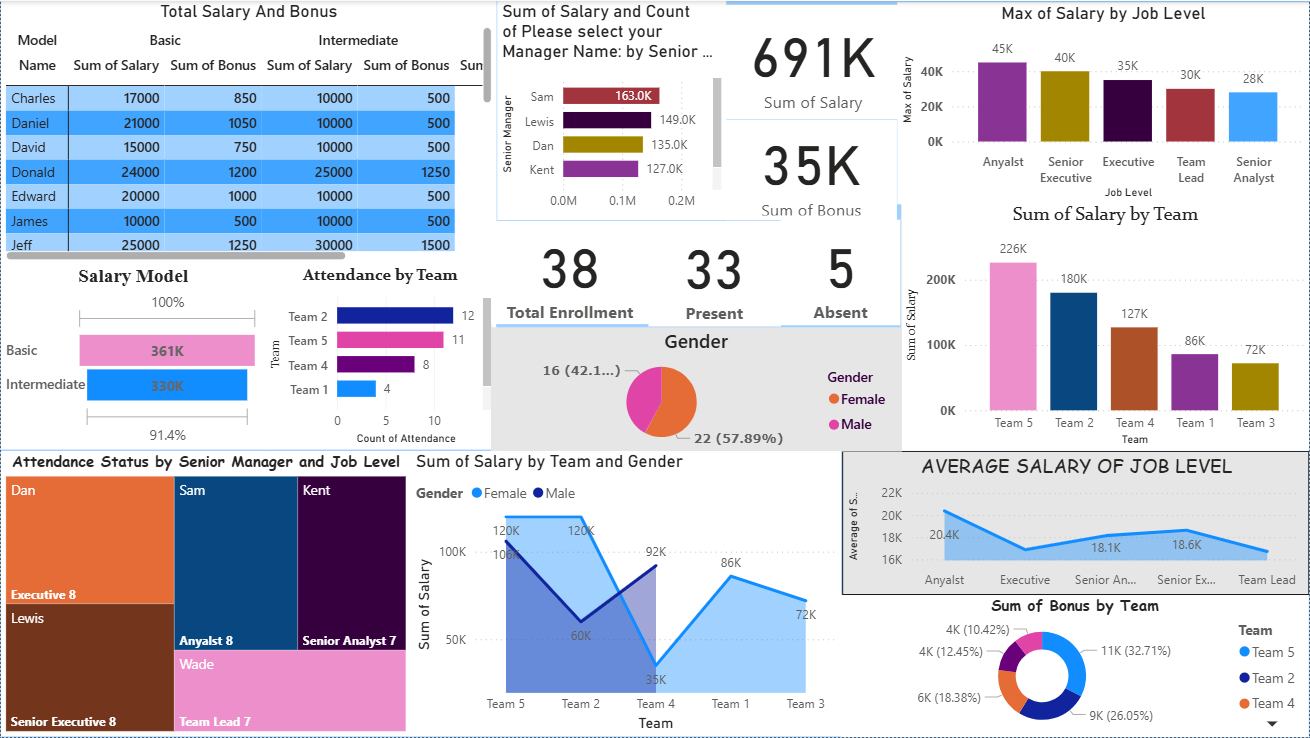

Layout of this report page (visuals, bound fields, positions):
{"tool":"powerbi","page":{"name":"Page 1","canvas":[1280,720],"ordinal":0},"visuals":[{"type":"barChart","title":"Attendance by Team","fields":{"Category":["Data.Team"],"Y":["Data.Attendance"]},"box":[258.5,258.5,226.5,180.9],"z":0},{"type":"treemap","title":"Attendance Status by Senior Manager and Job Level","fields":{"Group":["Data.Senior Manager"],"Details":["Data.Job Level"],"Values":["Data.Attendance Status"]},"box":[0,440.6,401.2,279.4],"z":1000},{"type":"card","fields":{"Values":["Data.Attendance Status"]},"box":[478.8,215.4,155.1,100.9],"z":2000},{"type":"card","fields":{"Values":["Data.Attendance Status"]},"box":[633.8,215.4,129.2,103.4],"z":3000},{"type":"card","fields":{"Values":["Data.Attendance Status"]},"box":[763.1,214.2,116.9,103.4],"z":4000},{"type":"donutChart","fields":{"Category":["Data.Team"],"Y":["Data.Bonus"]},"box":[822.2,580.9,457.8,139.1],"z":5000},{"type":"clusteredColumnChart","fields":{"Category":["Data.Team"],"Y":["Data.Salary"]},"box":[880,197.3,400,243.6],"z":6000},{"type":"stackedAreaChart","title":" AVERAGE SALARY OF JOB LEVEL","fields":{"Category":["Data.Name","Data.Job Level"],"Y":["Data.Salary"]},"box":[823,440.3,457.1,140.5],"z":7000},{"type":"columnChart","fields":{"Category":["Data.Job Level"],"Y":["Data.Salary"]},"box":[876.4,1.8,403.6,197.3],"z":8000},{"type":"pivotTable","title":"Total Salary And Bonus","fields":{"Rows":["Data.Name"],"Columns":["Data.Model"],"Values":["Data.Salary","Data.Bonus"]},"box":[0,0,484.9,258.5],"z":9000},{"type":"funnel","title":" Salary Model","fields":{"Category":["Data.Model"],"Y":["Data.Salary"]},"box":[0,258.5,258.5,180.9],"z":10000},{"type":"pieChart","title":" Gender","fields":{"Category":["Data.Gender"],"Y":["Data.Name"]},"box":[478.8,318.8,401.2,121.8],"z":11000},{"type":"areaChart","fields":{"Category":["Data.Team"],"Series":["Data.Gender"],"Y":["Data.Salary"]},"box":[401.2,440.6,420.9,279.4],"z":12000},{"type":"card","fields":{"Values":["Data.Salary"]},"box":[708.9,3.7,171.1,112],"z":13000},{"type":"card","fields":{"Values":["Data.Bonus"]},"box":[708.9,115.7,167.4,98.5],"z":14000},{"type":"barChart","fields":{"Category":["Data.Senior Manager"],"Y":["Data.Salary"]},"box":[484.9,0,224,214.2],"z":15000}]}

Visuals, with their boxes in screenshot pixels (x1, y1, x2, y2), scaled from the page's 1280x720 canvas onto the 1310x738 screenshot:
"Attendance by Team" barChart: x1=265 y1=265 x2=496 y2=450
"Attendance Status by Senior Manager and Job Level" treemap: x1=0 y1=452 x2=411 y2=737
card - Data.Attendance Status: x1=490 y1=221 x2=649 y2=324
card - Data.Attendance Status: x1=649 y1=221 x2=781 y2=327
card - Data.Attendance Status: x1=781 y1=220 x2=901 y2=326
donutChart - Data.Team x Data.Bonus: x1=841 y1=595 x2=1309 y2=737
clusteredColumnChart - Data.Team x Data.Salary: x1=901 y1=202 x2=1309 y2=452
" AVERAGE SALARY OF JOB LEVEL" stackedAreaChart: x1=842 y1=451 x2=1309 y2=595
columnChart - Data.Job Level x Data.Salary: x1=897 y1=2 x2=1309 y2=204
"Total Salary And Bonus" pivotTable: x1=0 y1=0 x2=496 y2=265
" Salary Model" funnel: x1=0 y1=265 x2=265 y2=450
" Gender" pieChart: x1=490 y1=327 x2=901 y2=452
areaChart - Data.Team x Data.Gender: x1=411 y1=452 x2=841 y2=737
card - Data.Salary: x1=726 y1=4 x2=901 y2=119
card - Data.Bonus: x1=726 y1=119 x2=897 y2=220
barChart - Data.Senior Manager x Data.Salary: x1=496 y1=0 x2=726 y2=220
